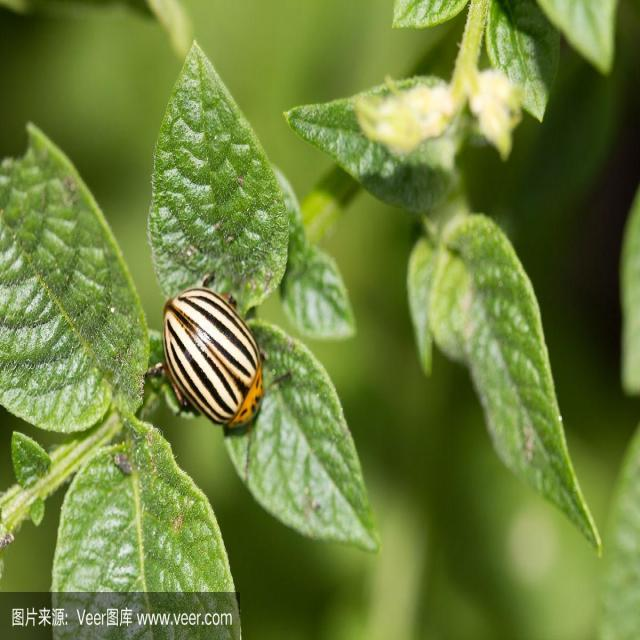ShuCaiHuaBanChong-Grown-: (146, 274, 273, 444)
